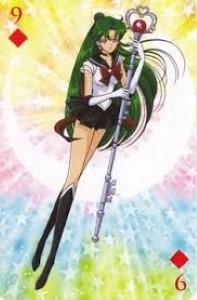NineOfDiamonds: (5, 1, 191, 294)
